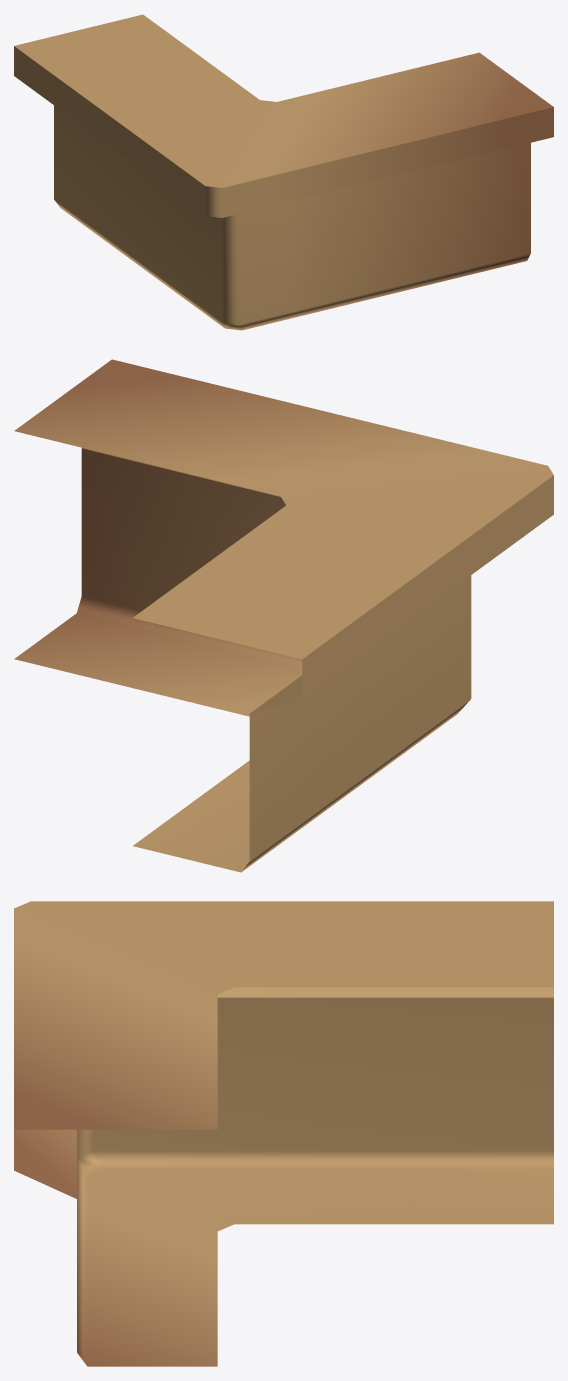
File: DBK_Trim_C_Corner.fbx
3 views of the same model, one above another, from view 1: azimuth 30°, elevation 25°; view 2: azimuth 150°, elevation 25°; view 3: azimuth 270°, elevation 25° (orthographic). The views are drawn at different scales.
Visible parts, largest first — view 1: DBK_Trim_C_Corner; view 2: DBK_Trim_C_Corner; view 3: DBK_Trim_C_Corner.
Boxes of the visible parts, x1,y1,x2,y2 form: DBK_Trim_C_Corner: (14, 14, 553, 330); DBK_Trim_C_Corner: (14, 359, 553, 872); DBK_Trim_C_Corner: (14, 901, 553, 1366).
Bounding box in the file's own units: 32.11 × 15.54 × 32.11.
